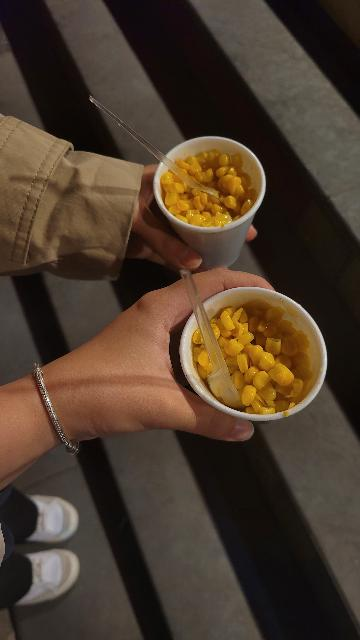Organik: (199, 307, 304, 411), (162, 147, 244, 218)
